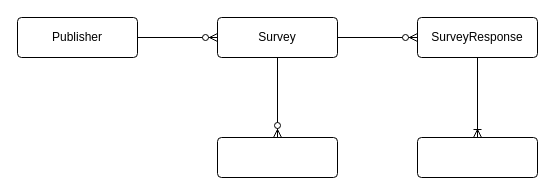
The diagram is 555 pixels wide and 195 high, and some of its shapes have lost their labels. The centre of each missing label's shape, as x and y in pixels:
Question: [277,157]
QuestionResponse: [477,157]
